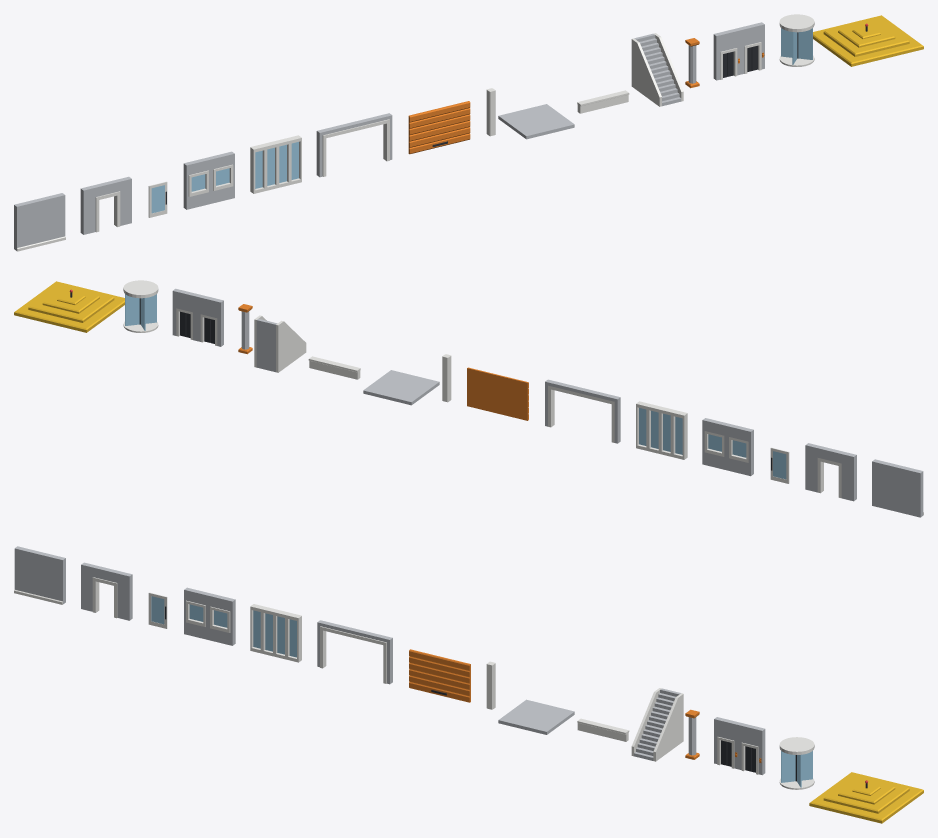
Rendered from Structure.glb.
The picture shows the model from 3 angles, top to bottom: view 1: azimuth 30°, elevation 25°; view 2: azimuth 150°, elevation 25°; view 3: azimuth 330°, elevation 25°; orthographic projection.
Parts seen in each view (by area): view 1: main (×7), trim (×7), accent (×2), glass (×2), dark; view 2: main (×7), accent (×2), trim (×6), glass (×2), dark; view 3: main (×7), accent (×2), trim (×5), glass (×2).
Part boxes in pixels (x1=…): main (×7): x1=14, y1=22, x2=764, y2=250; trim (×7): x1=188, y1=14, x2=814, y2=196; accent (×2): x1=408, y1=15, x2=923, y2=154; glass (×2): x1=255, y1=28, x2=812, y2=188; dark: x1=723, y1=45, x2=757, y2=77; main (×7): x1=172, y1=288, x2=923, y2=517; accent (×2): x1=14, y1=281, x2=528, y2=420; trim (×6): x1=123, y1=280, x2=748, y2=462; glass (×2): x1=125, y1=294, x2=682, y2=454; dark: x1=180, y1=311, x2=214, y2=343; main (×7): x1=14, y1=546, x2=765, y2=775; accent (×2): x1=409, y1=649, x2=923, y2=823; trim (×5): x1=250, y1=604, x2=814, y2=789; glass (×2): x1=253, y1=610, x2=812, y2=787.
Bounding box in the file's own units: 293 × 15 × 24.
